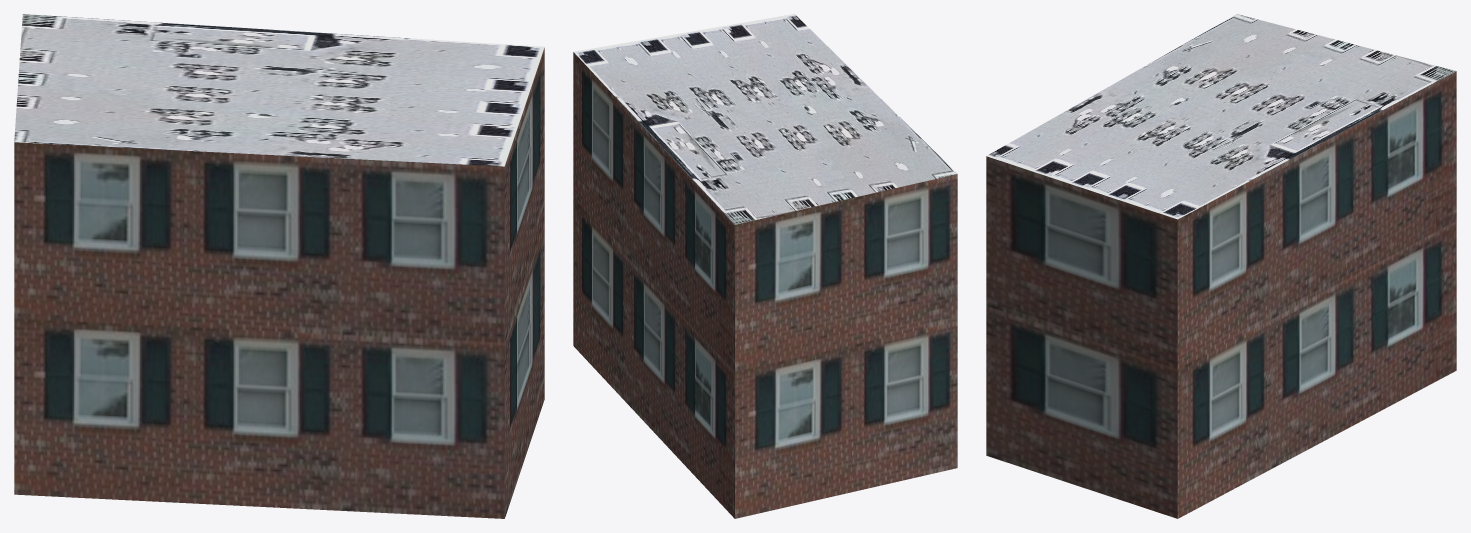
File: ResTex__2918.fbx
The picture shows the model from 3 angles, left to right: view 1: azimuth 30°, elevation 25°; view 2: azimuth 150°, elevation 25°; view 3: azimuth 270°, elevation 25°; orthographic projection. The views are drawn at different scales.
Visible parts, largest first — view 1: CityEngineMaterial_14_m, CityEngineMaterial_4_m; view 2: CityEngineMaterial_14_m, CityEngineMaterial_4_m; view 3: CityEngineMaterial_14_m, CityEngineMaterial_4_m.
Part boxes in pixels (bbox=[...]): CityEngineMaterial_14_m: bbox=[14, 48, 544, 518]; CityEngineMaterial_4_m: bbox=[14, 14, 544, 166]; CityEngineMaterial_14_m: bbox=[573, 52, 957, 518]; CityEngineMaterial_4_m: bbox=[573, 14, 957, 224]; CityEngineMaterial_14_m: bbox=[986, 71, 1456, 518]; CityEngineMaterial_4_m: bbox=[986, 14, 1456, 219].
Size of the model in its own units: 8.83 by 6 by 8.55.
Materials: 2 (2 with a texture image).
